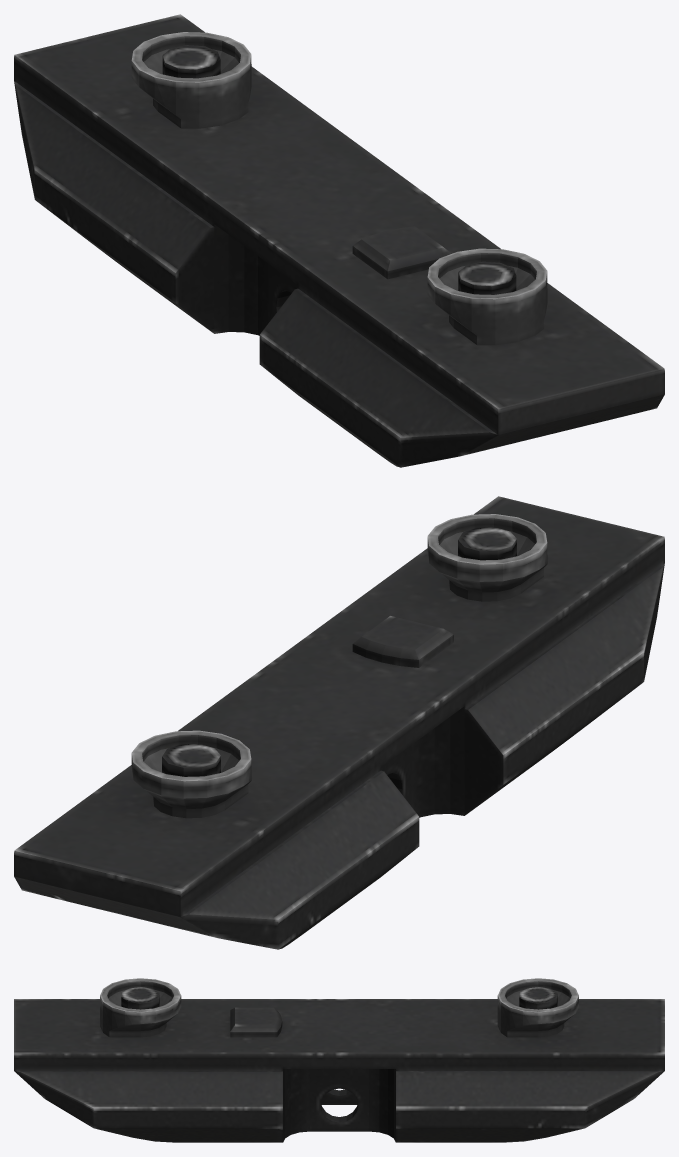
3 renders of one model, top to bottom at view 1: azimuth 30°, elevation 25°; view 2: azimuth 150°, elevation 25°; view 3: azimuth 270°, elevation 25°, orthographic. The views are drawn at different scales.
Visible parts, largest first — view 1: TW_67112695fe5c8bf33f02476d_PZ_Import; view 2: TW_67112695fe5c8bf33f02476d_PZ_Import; view 3: TW_67112695fe5c8bf33f02476d_PZ_Import.
Boxes of the visible parts, x1,y1,x2,y2 form: TW_67112695fe5c8bf33f02476d_PZ_Import: [14, 14, 664, 467]; TW_67112695fe5c8bf33f02476d_PZ_Import: [14, 496, 664, 949]; TW_67112695fe5c8bf33f02476d_PZ_Import: [14, 978, 664, 1142].
Bounding box in the file's own units: 0.011 × 0.038 × 0.00774.
Materials: 1 (1 with a texture image).
